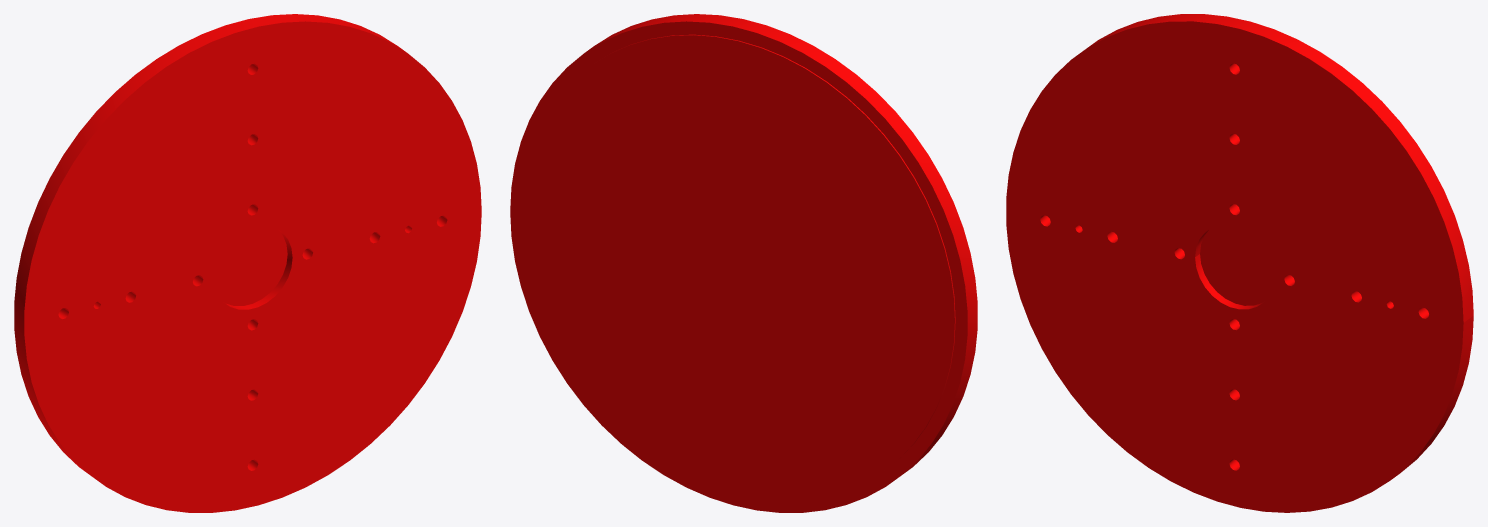
3 views of the same model, side by side, from view 1: azimuth 30°, elevation 25°; view 2: azimuth 150°, elevation 25°; view 3: azimuth 330°, elevation 25° (orthographic).
Visible parts, largest first — view 1: Node_000002785FD4AC60; view 2: Node_000002785FD4AC60; view 3: Node_000002785FD4AC60.
Boxes of the visible parts, <box> form: Node_000002785FD4AC60: <box>14,14,481,512</box>; Node_000002785FD4AC60: <box>510,14,977,512</box>; Node_000002785FD4AC60: <box>1006,14,1473,512</box>.
Size of the model in its own units: 0.7495 by 0.7498 by 0.031.
